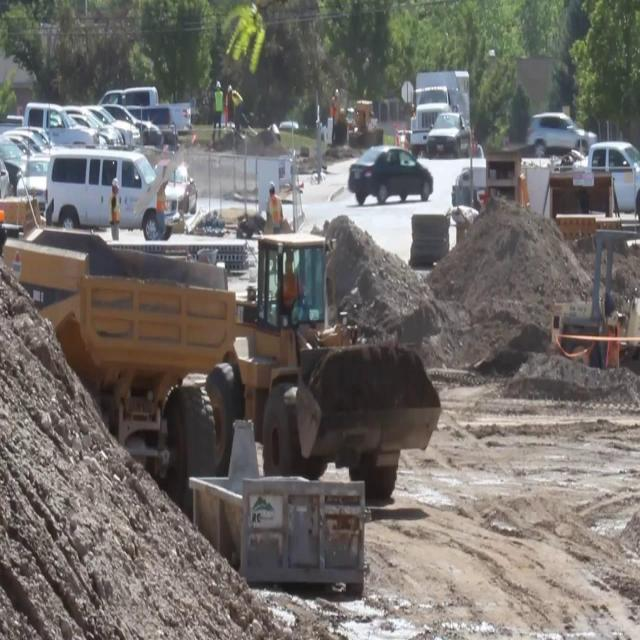Dump Truck: (4, 226, 234, 514)
Loader: (240, 233, 442, 505)
